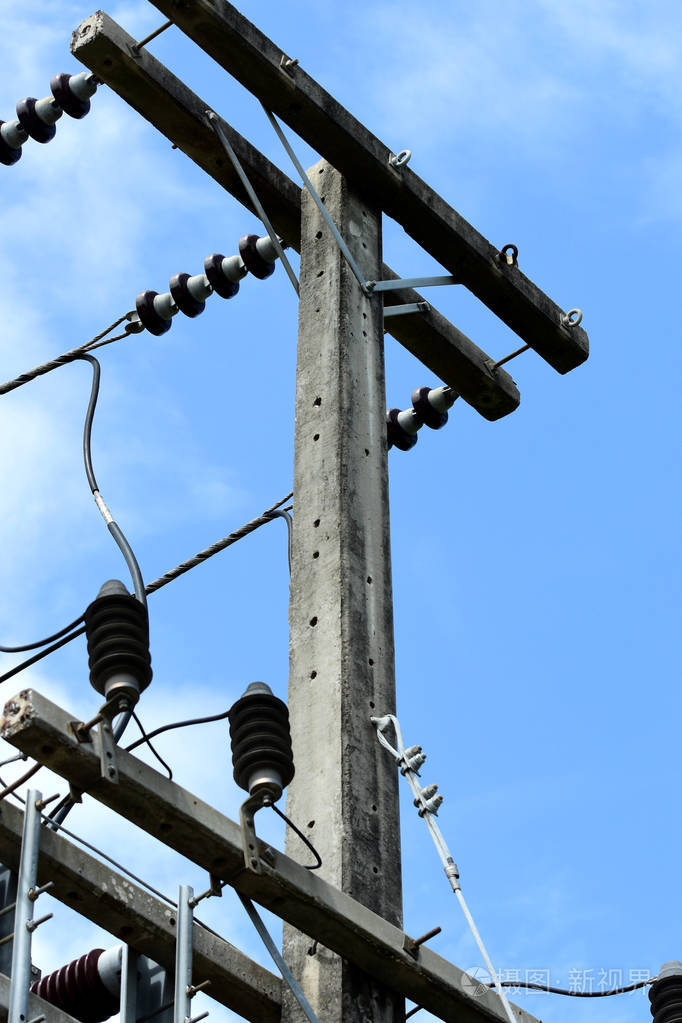insulator: (136, 237, 276, 334), (1, 70, 88, 162), (84, 593, 156, 693), (225, 693, 296, 783), (388, 387, 448, 457)
